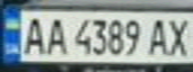3: (90, 16, 109, 56)
4: (69, 15, 93, 55)
8: (106, 16, 127, 56)
9: (124, 16, 145, 56)
A: (18, 14, 48, 56), (145, 15, 172, 57), (42, 15, 69, 56)
X: (163, 15, 193, 57)
